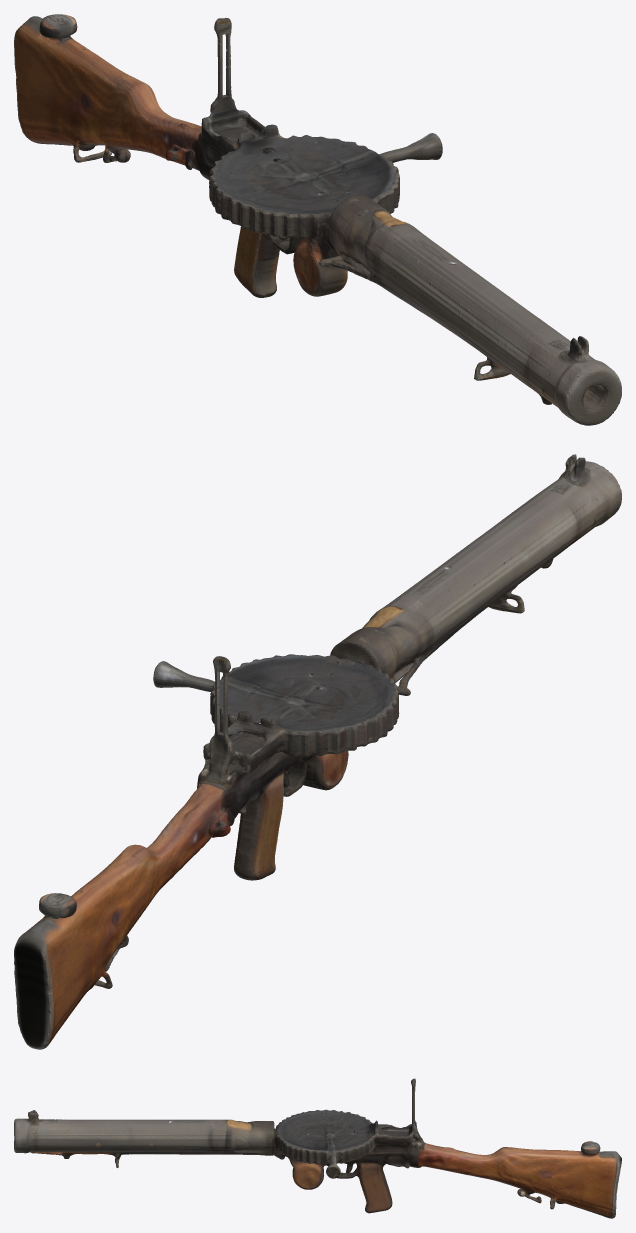
File: Lewis_Gun.glb
3 renders of one model, top to bottom at view 1: azimuth 30°, elevation 25°; view 2: azimuth 150°, elevation 25°; view 3: azimuth 270°, elevation 25°, orthographic. The views are drawn at different scales.
Visible parts, largest first — view 1: Mesh_0; view 2: Mesh_0; view 3: Mesh_0.
Boxes of the visible parts, x1,y1,x2,y2 form: Mesh_0: (14, 14, 621, 425); Mesh_0: (14, 454, 621, 1049); Mesh_0: (14, 1078, 621, 1218).
Size of the model in its own units: 0.4526 by 0.5023 by 2.
1 material, 1 textured.
